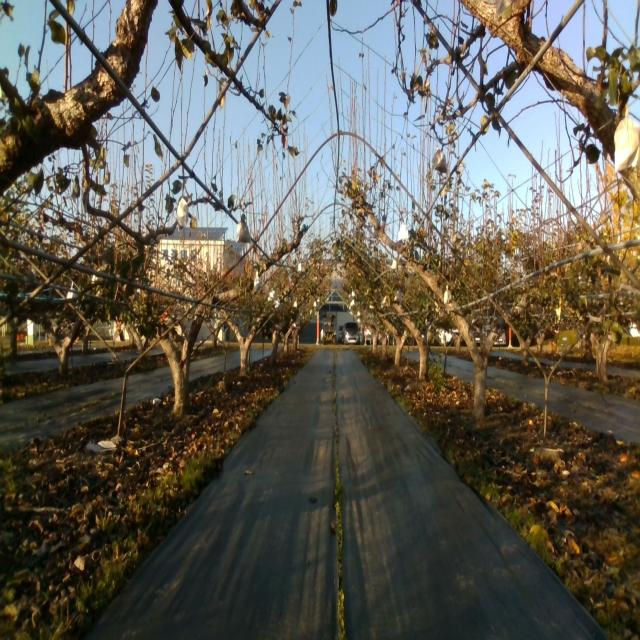pearbags: (612, 107, 640, 173), (176, 197, 189, 227), (236, 221, 251, 244), (434, 148, 447, 174)
